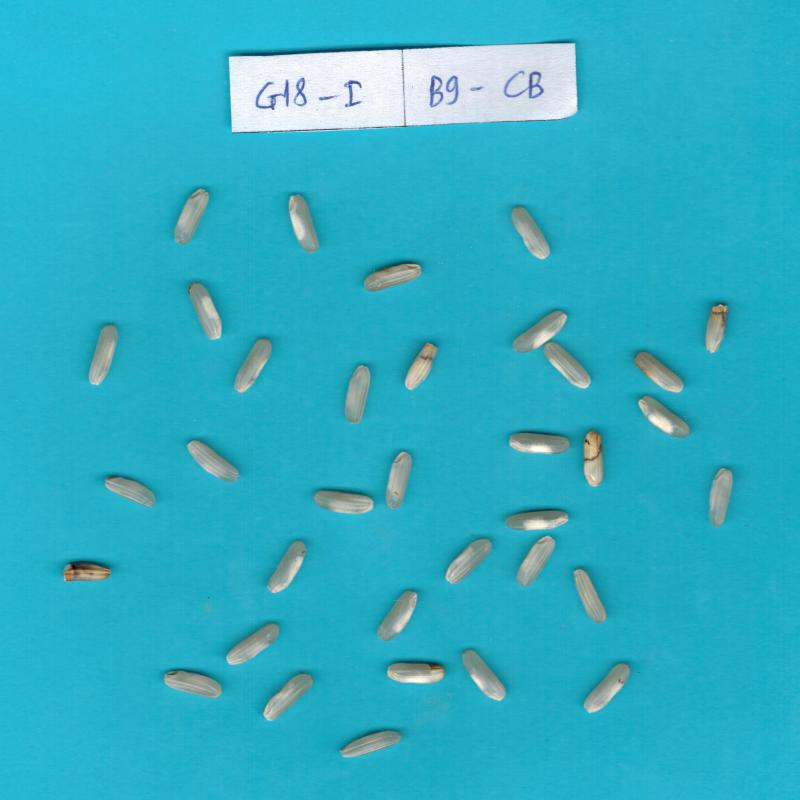Break: (404, 342, 438, 390), (705, 304, 727, 353), (64, 564, 111, 581)
Inferior: (584, 430, 603, 486)
Rice: (264, 674, 313, 721), (583, 664, 629, 713), (226, 624, 279, 665), (639, 396, 689, 439), (188, 440, 238, 483), (463, 650, 506, 700), (514, 311, 566, 352), (545, 342, 590, 388), (446, 539, 492, 584), (377, 590, 417, 641), (512, 207, 550, 259), (635, 352, 683, 393), (268, 541, 305, 593), (235, 339, 271, 392), (175, 188, 209, 244), (517, 536, 555, 586), (189, 283, 221, 339), (289, 195, 319, 253), (574, 570, 606, 624), (340, 730, 401, 758), (89, 325, 117, 385), (164, 670, 222, 698), (364, 264, 421, 292), (104, 476, 155, 507), (708, 468, 732, 528), (314, 490, 373, 514), (386, 452, 411, 508), (346, 365, 369, 424), (509, 433, 569, 454), (505, 511, 568, 530), (387, 663, 444, 684)
